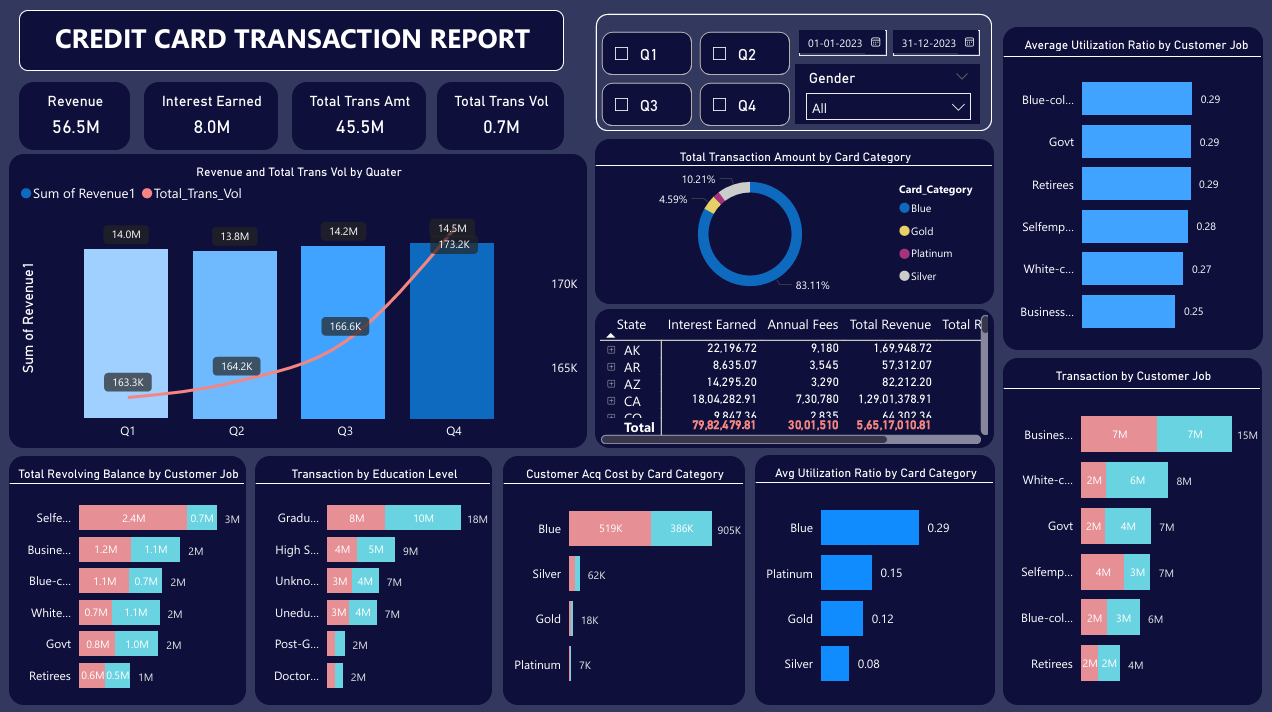

The dashboard page shown, as its layout file describes it:
{"tool":"powerbi","page":{"name":"Transaction","canvas":[1280,720],"ordinal":1},"visuals":[{"type":"shape","box":[598.8,15.7,396.4,116.9],"z":0},{"type":"slicer","fields":{"Values":["Customer.Gender","Credit_card dataset.Revenue1"]},"box":[798.8,67.5,185.5,59],"z":1000},{"type":"textbox","box":[21.7,12,545.8,61.4],"z":2000},{"type":"slicer","fields":{"Values":["Credit_card dataset.Week_Start_Date"]},"box":[789.2,16.9,206,47],"z":3000},{"type":"pivotTable","fields":{"Rows":["Customer.state_cd","Credit_card dataset.Card_Category","Customer.Customer_Job"],"Values":["Sum(Credit_card dataset.Interest_Earned)","Sum(Credit_card dataset.Annual_Fees)","Sum(Credit_card dataset.Revenue1)","Sum(Credit_card dataset.Total_Revolving_Bal)"]},"box":[598.5,311.4,398.2,138.9],"z":4000},{"type":"barChart","title":"Total Revolving Balance by Customer Job","fields":{"Category":["Customer.Customer_Job"],"Series":["Customer.Gender"],"Y":["Sum(Credit_card dataset.Total_Revolving_Bal)"]},"box":[12,457.8,237.3,249.4],"z":5000},{"type":"barChart","title":"Transaction by Education Level","fields":{"Category":["Customer.Education_Level"],"Series":["Customer.Gender"],"Y":["Sum(Credit_card dataset.Total_Trans_Amt)"]},"box":[257.8,457.8,237.3,249.4],"z":6000},{"type":"barChart","title":"Transaction by Customer Job","fields":{"Category":["Customer.Customer_Job"],"Series":["Customer.Gender"],"Y":["Sum(Credit_card dataset.Total_Trans_Amt)"]},"box":[1006,360.2,259,347],"z":7000},{"type":"barChart","title":"Customer Acq Cost by Card Category","fields":{"Category":["Credit_card dataset.Card_Category"],"Series":["Customer.Gender"],"Y":["Sum(Credit_card dataset.Customer_Acq_Cost)"]},"box":[506,457.8,242.2,249.4],"z":8000},{"type":"lineStackedColumnComboChart","title":"Revenue and Total Trans Vol by Quater","fields":{"Category":["Credit_card dataset.Qtr"],"Y":["Sum(Credit_card dataset.Revenue1)"],"Y2":["Sum(Credit_card dataset.Total_Trans_Vol)"]},"box":[11.6,156.3,578.8,294],"z":9000},{"type":"card","title":"Revenue","fields":{"Values":["Sum(Credit_card dataset.Revenue1)"]},"box":[21.7,84.3,110.8,67.5],"z":10000},{"type":"card","title":"Interest Earned","fields":{"Values":["Sum(Credit_card dataset.Interest_Earned)"]},"box":[147,84.3,133.7,67.5],"z":11000},{"type":"card","title":"Total Trans Vol","fields":{"Values":["Sum(Credit_card dataset.Total_Trans_Vol)"]},"box":[439.8,84.3,127.7,67.5],"z":12000},{"type":"card","title":"Total Trans Amt","fields":{"Values":["Sum(Credit_card dataset.Total_Trans_Amt)"]},"box":[295.2,84.3,133.7,67.5],"z":13000},{"type":"donutChart","title":"Total Transaction Amount by Card Category","fields":{"Series":["Credit_card dataset.Card_Category"],"Y":["Sum(Credit_card dataset.Total_Trans_Amt)"]},"box":[598.5,141.2,398.2,164.4],"z":14000},{"type":"advancedSlicerVisual","fields":{"Values":["Credit_card dataset.Qtr"]},"box":[600,28.9,198.8,103.6],"z":15000},{"type":"barChart","title":"Avg Utilization Ratio by Card Category","fields":{"Category":["Credit_card dataset.Card_Category"],"Y":["Avg(Credit_card dataset.Avg_Utilization_Ratio)"]},"box":[757.8,456.6,239.8,250.6],"z":16000},{"type":"barChart","title":"Average Utilization Ratio by Customer Job","fields":{"Category":["Customer.Customer_Job"],"Y":["Avg(Credit_card dataset.Avg_Utilization_Ratio)"]},"box":[1006,28.9,260.2,322.9],"z":17000}]}

Visuals, with their boxes in screenshot pixels (x1, y1, x2, y2), scaled from the page's 1280x720 canvas onto the 1272x712 screenshot:
shape: [595, 16, 989, 131]
slicer - Customer.Gender x Credit_card dataset.Revenue1: [794, 67, 978, 125]
textbox: [22, 12, 564, 73]
slicer - Credit_card dataset.Week_Start_Date: [784, 17, 989, 63]
pivotTable - Customer.state_cd x Credit_card dataset.Card_Category: [595, 308, 990, 445]
"Total Revolving Balance by Customer Job" barChart: [12, 453, 248, 699]
"Transaction by Education Level" barChart: [256, 453, 492, 699]
"Transaction by Customer Job" barChart: [1000, 356, 1257, 699]
"Customer Acq Cost by Card Category" barChart: [503, 453, 744, 699]
"Revenue and Total Trans Vol by Quater" lineStackedColumnComboChart: [12, 155, 587, 445]
"Revenue" card: [22, 83, 132, 150]
"Interest Earned" card: [146, 83, 279, 150]
"Total Trans Vol" card: [437, 83, 564, 150]
"Total Trans Amt" card: [293, 83, 426, 150]
"Total Transaction Amount by Card Category" donutChart: [595, 140, 990, 302]
advancedSlicerVisual - Credit_card dataset.Qtr: [596, 29, 794, 131]
"Avg Utilization Ratio by Card Category" barChart: [753, 452, 991, 699]
"Average Utilization Ratio by Customer Job" barChart: [1000, 29, 1258, 348]
